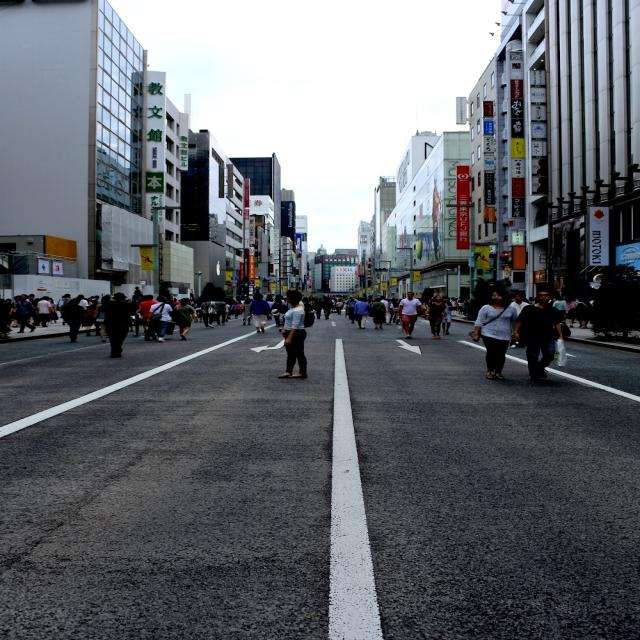body: (0, 288, 614, 336), (511, 287, 568, 383), (466, 288, 520, 381), (274, 288, 316, 380), (96, 291, 138, 358), (503, 293, 531, 350), (144, 295, 174, 343), (398, 290, 426, 338), (421, 294, 448, 340), (60, 298, 87, 342), (171, 297, 197, 341), (136, 294, 159, 342), (248, 292, 272, 334), (14, 294, 38, 333), (95, 296, 112, 343), (129, 296, 148, 338), (574, 295, 593, 330), (550, 322, 573, 350), (36, 295, 55, 328), (353, 297, 372, 330), (56, 292, 73, 326), (85, 299, 100, 337), (199, 297, 216, 330), (369, 297, 386, 330), (440, 296, 454, 335), (562, 297, 578, 328), (344, 293, 359, 324), (270, 294, 284, 327), (552, 295, 566, 323), (214, 298, 227, 326), (2, 298, 14, 328), (206, 298, 218, 324), (241, 298, 252, 326), (320, 295, 332, 320), (46, 297, 57, 324), (380, 295, 390, 324), (312, 298, 325, 320), (265, 293, 275, 321), (0, 298, 6, 335), (280, 297, 292, 315), (28, 293, 39, 312), (230, 300, 240, 319), (386, 297, 396, 314), (335, 299, 344, 315), (224, 301, 230, 322)
